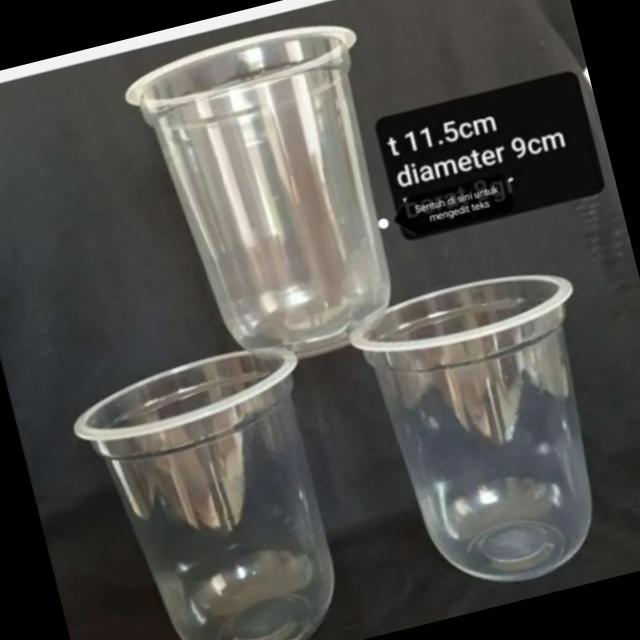GelasPlastik: (116, 10, 429, 384), (341, 256, 638, 608), (63, 334, 367, 640)
